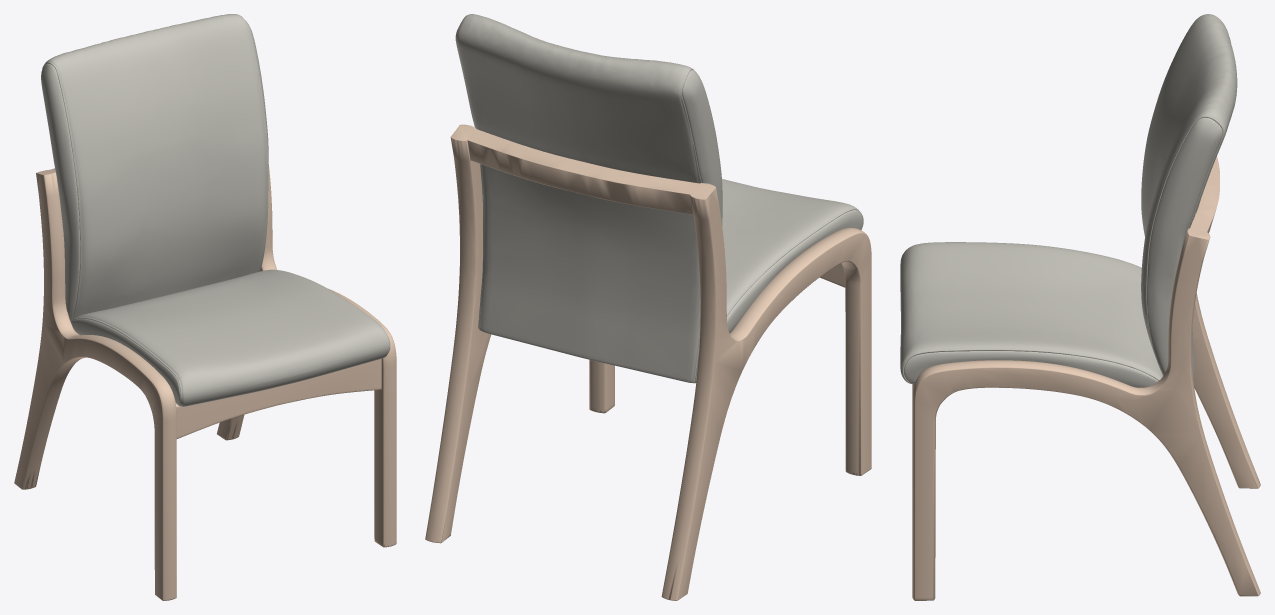
The model's file is cadeira-laura.glb.
3 views of the same model, side by side, from view 1: azimuth 30°, elevation 25°; view 2: azimuth 150°, elevation 25°; view 3: azimuth 270°, elevation 25° (orthographic). The views are drawn at different scales.
Size of the model in its own units: 0.509 by 0.9088 by 0.6222.
